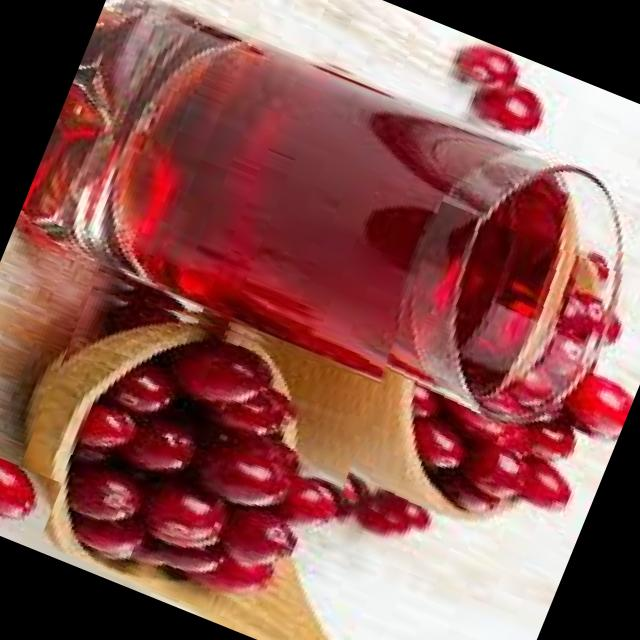Organic: (0, 266, 363, 631), (317, 200, 640, 598), (394, 15, 570, 144), (0, 436, 61, 550)
